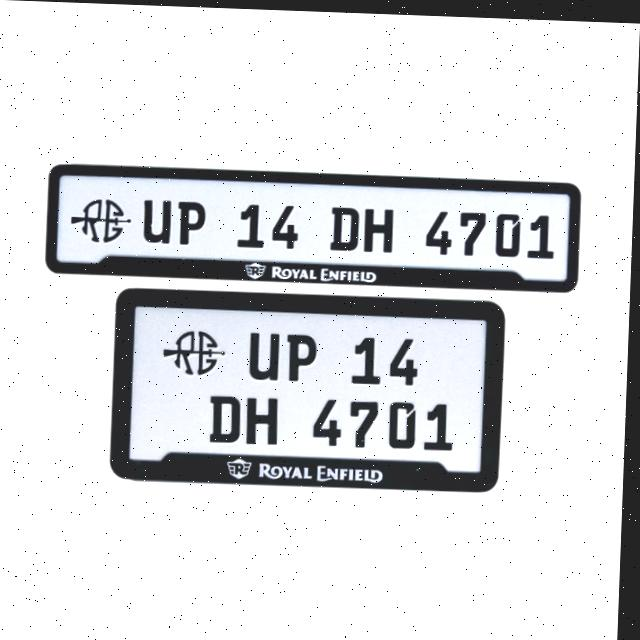plate: (114, 286, 509, 491), (46, 163, 585, 286)
